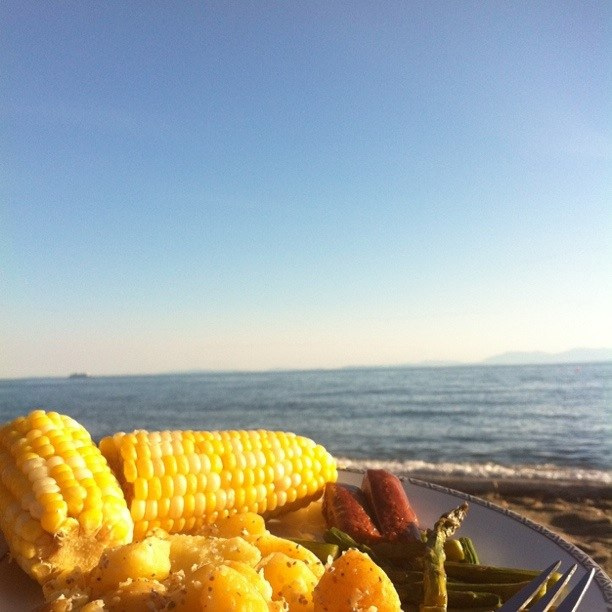boiled potatoes: (90, 523, 363, 612)
